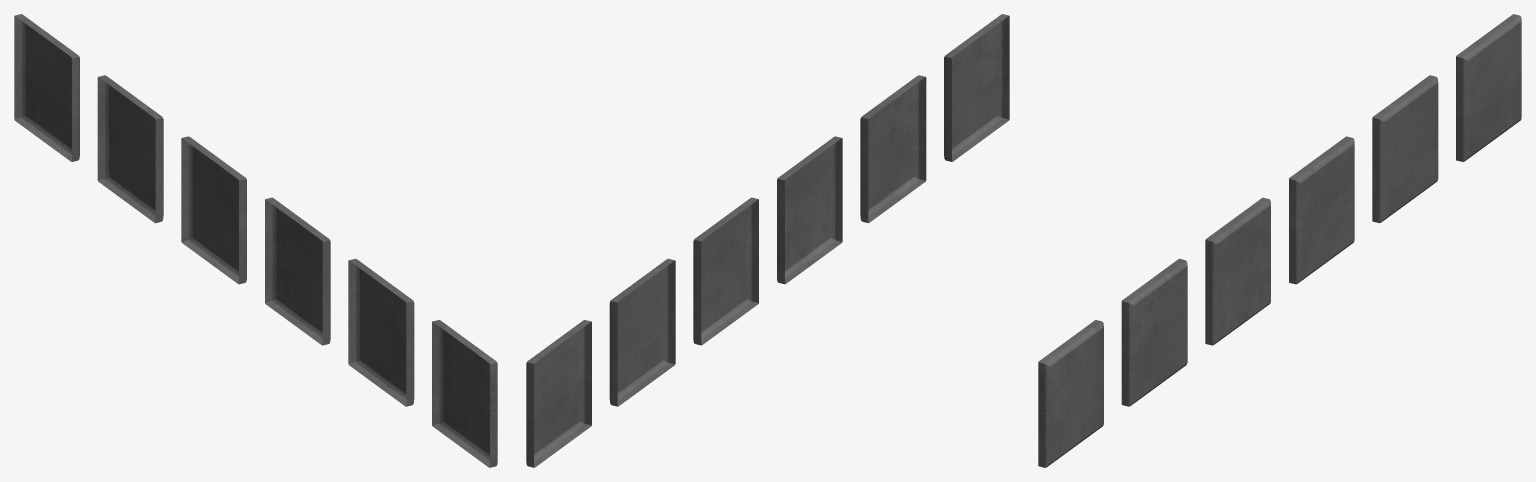
Rendered from cP_Pathway03_SteppingStoneSquare02.dae.
3 renders of one model, left to right at view 1: azimuth 30°, elevation 25°; view 2: azimuth 150°, elevation 25°; view 3: azimuth 330°, elevation 25°, orthographic.
Visible parts, largest first — view 1: cP_Pathway03_SteppingStoneSquare02_Comb01.001; view 2: cP_Pathway03_SteppingStoneSquare02_Comb01.001; view 3: cP_Pathway03_SteppingStoneSquare02_Comb01.001.
Boxes of the visible parts, x1,y1,x2,y2 form: cP_Pathway03_SteppingStoneSquare02_Comb01.001: (14,14,497,467); cP_Pathway03_SteppingStoneSquare02_Comb01.001: (526,14,1009,467); cP_Pathway03_SteppingStoneSquare02_Comb01.001: (1038,14,1521,467).
Size of the model in its own units: 0.0521 by 4.27 by 0.5191.
